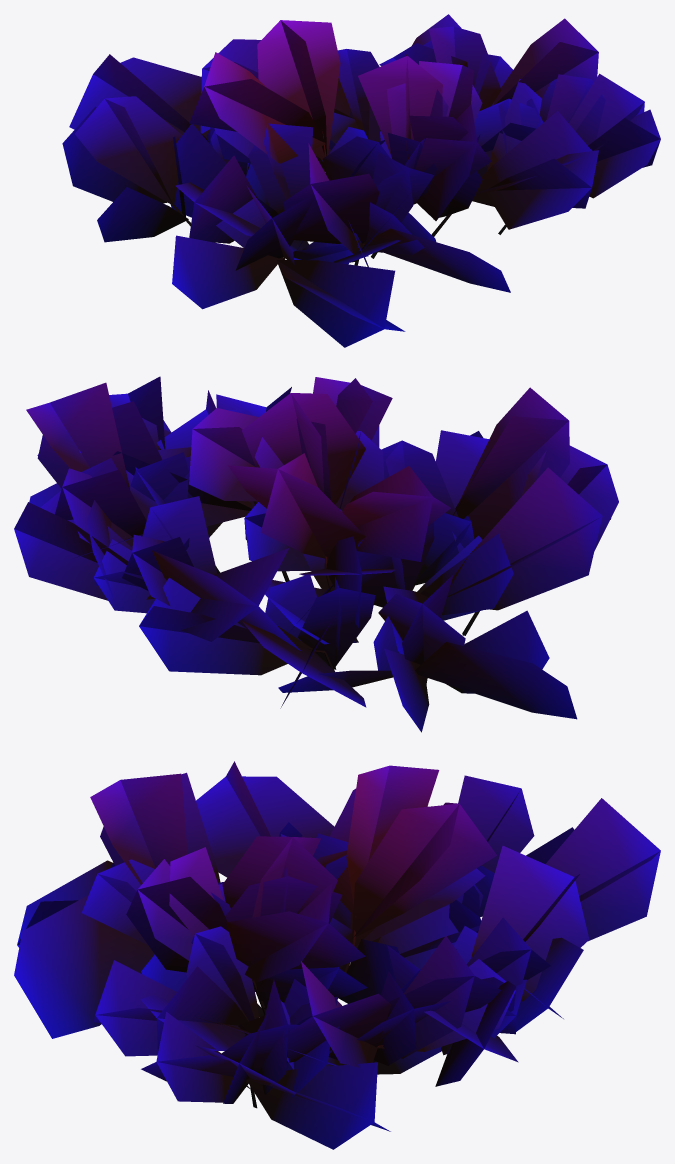
The model's file is Bush_A_05.fbx.
3 renders of one model, top to bottom at view 1: azimuth 30°, elevation 25°; view 2: azimuth 150°, elevation 25°; view 3: azimuth 270°, elevation 25°, orthographic. The views are drawn at different scales.
Parts seen in each view (by area): view 1: Bush_A_05; view 2: Bush_A_05; view 3: Bush_A_05.
Boxes of the visible parts, x1,y1,x2,y2 form: Bush_A_05: [62, 14, 660, 347]; Bush_A_05: [14, 376, 618, 732]; Bush_A_05: [14, 761, 660, 1149].
Size of the model in its own units: 616 by 207 by 536.
